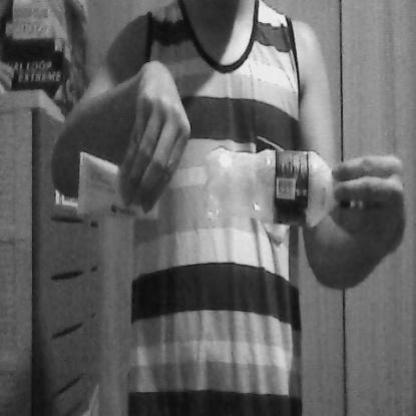Plastic Bottle: (197, 138, 354, 242)
